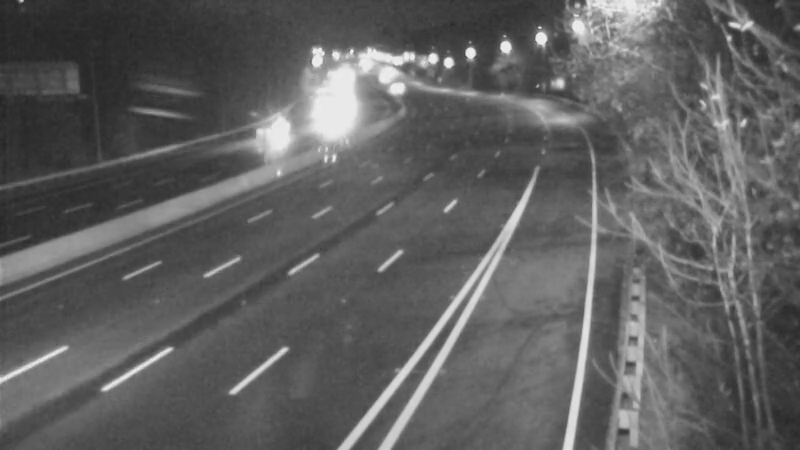vehicle: (255, 104, 305, 154), (297, 100, 347, 150)
